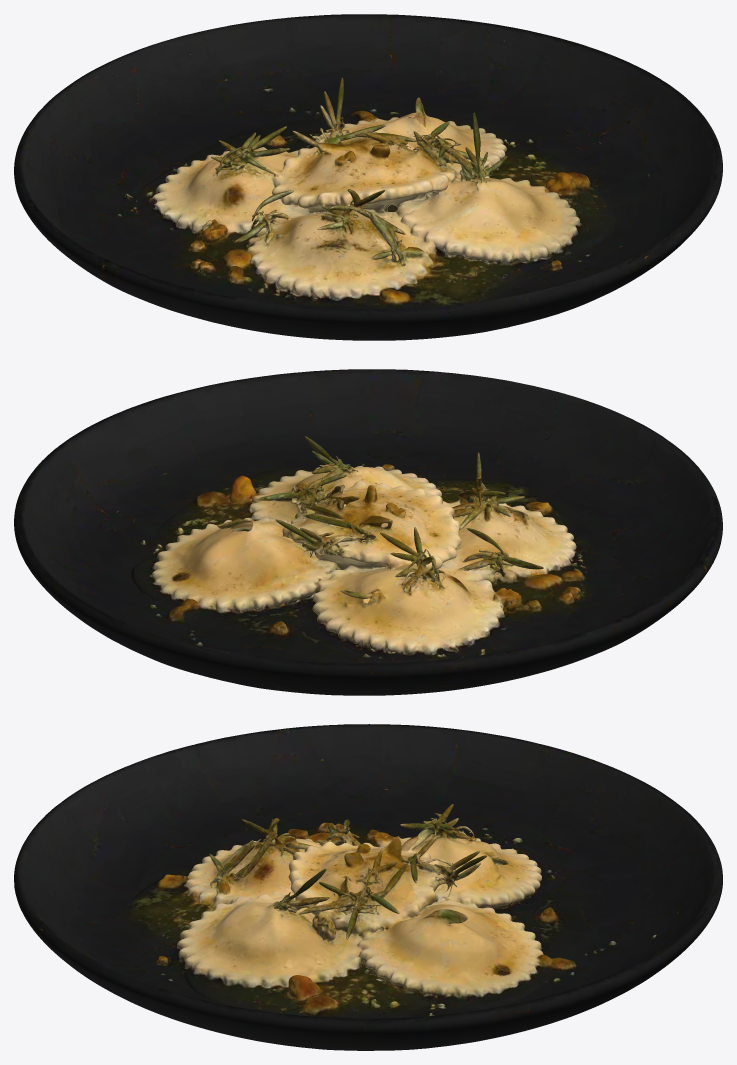
The model's file is ravioles-chevre-miel-meshopt-8a28933e.glb.
3 renders of one model, top to bottom at view 1: azimuth 30°, elevation 25°; view 2: azimuth 150°, elevation 25°; view 3: azimuth 270°, elevation 25°, orthographic.
Size of the model in its own units: 1.9 by 0.3893 by 1.9.
Materials: 1 (1 with a texture image).
